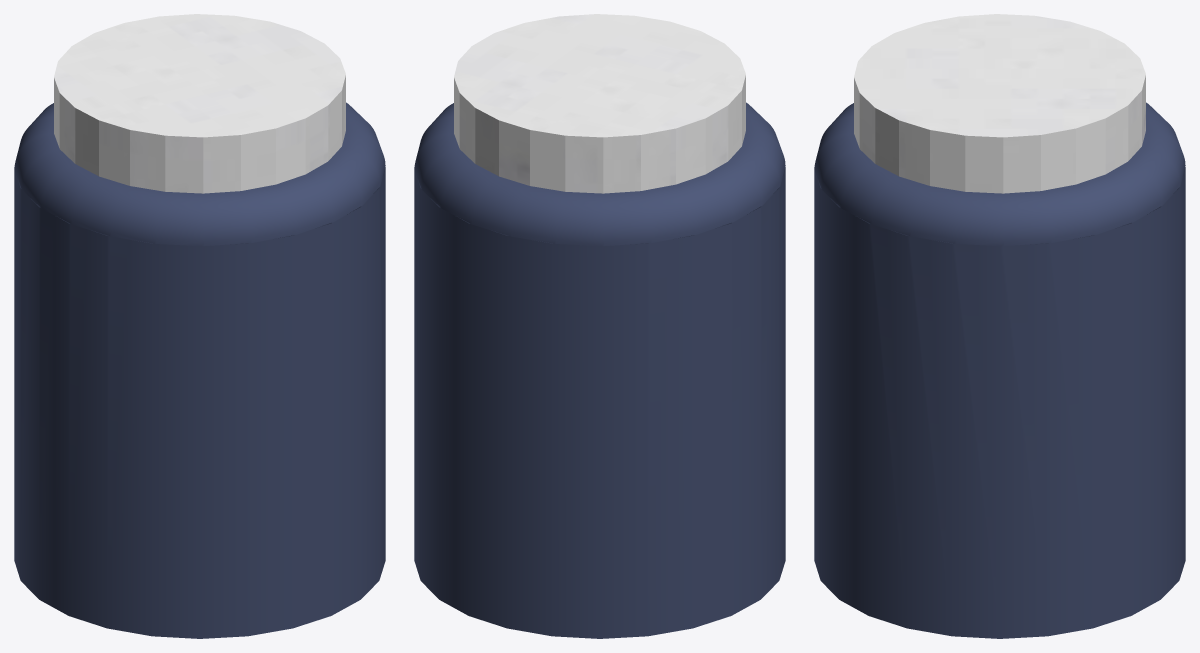
File: RemedioAzulAcinzentado.dae
3 renders of one model, left to right at view 1: azimuth 30°, elevation 25°; view 2: azimuth 150°, elevation 25°; view 3: azimuth 270°, elevation 25°, orthographic.
Parts seen in each view (by area): view 1: instance_0 (×2); view 2: instance_0 (×2); view 3: instance_0 (×2).
Part boxes in pixels (<box>): instance_0 (×2): <box>14,14,385,638</box>; instance_0 (×2): <box>414,14,785,638</box>; instance_0 (×2): <box>814,14,1185,638</box>.
Bounding box in the file's own units: 1.95 × 1.95 × 2.81.
Materials: 2 (1 with a texture image).
